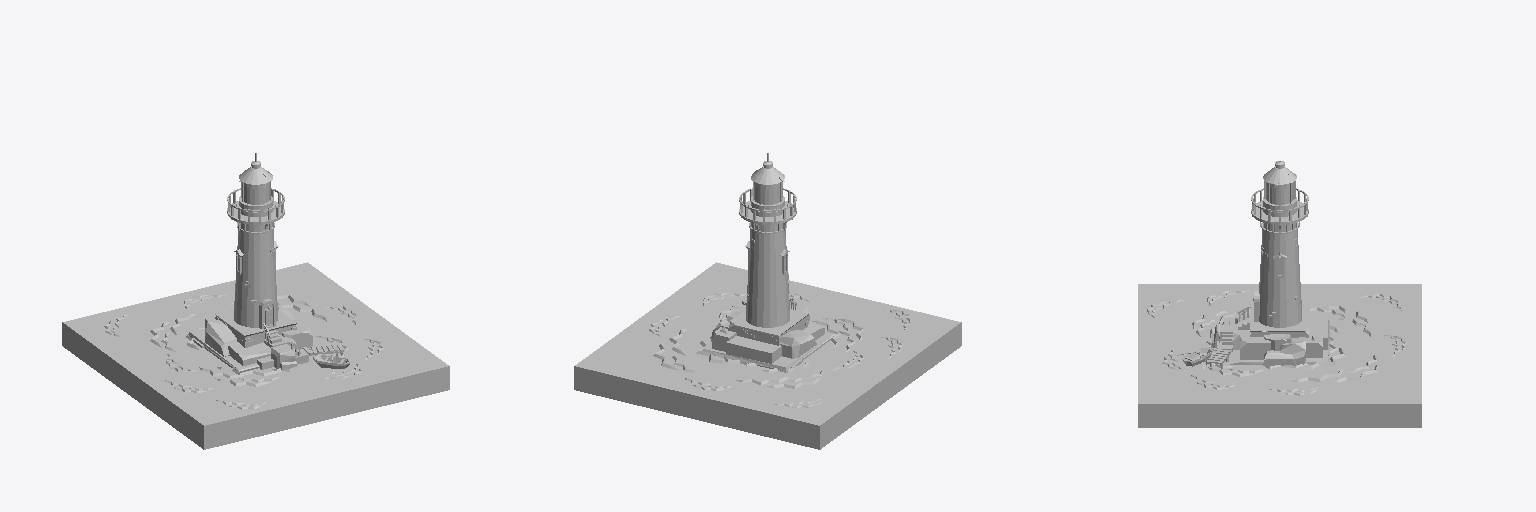
Rendered from lighthouse rexport.obj.
3 renders of one model, left to right at view 1: azimuth 30°, elevation 25°; view 2: azimuth 150°, elevation 25°; view 3: azimuth 270°, elevation 25°, orthographic.
Bounding box in the file's own units: 24.44 × 21.37 × 24.44.